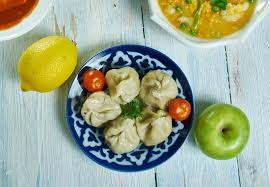modak: (99, 118, 146, 157), (139, 69, 179, 110), (101, 65, 140, 103), (134, 111, 175, 144), (84, 90, 120, 126)
